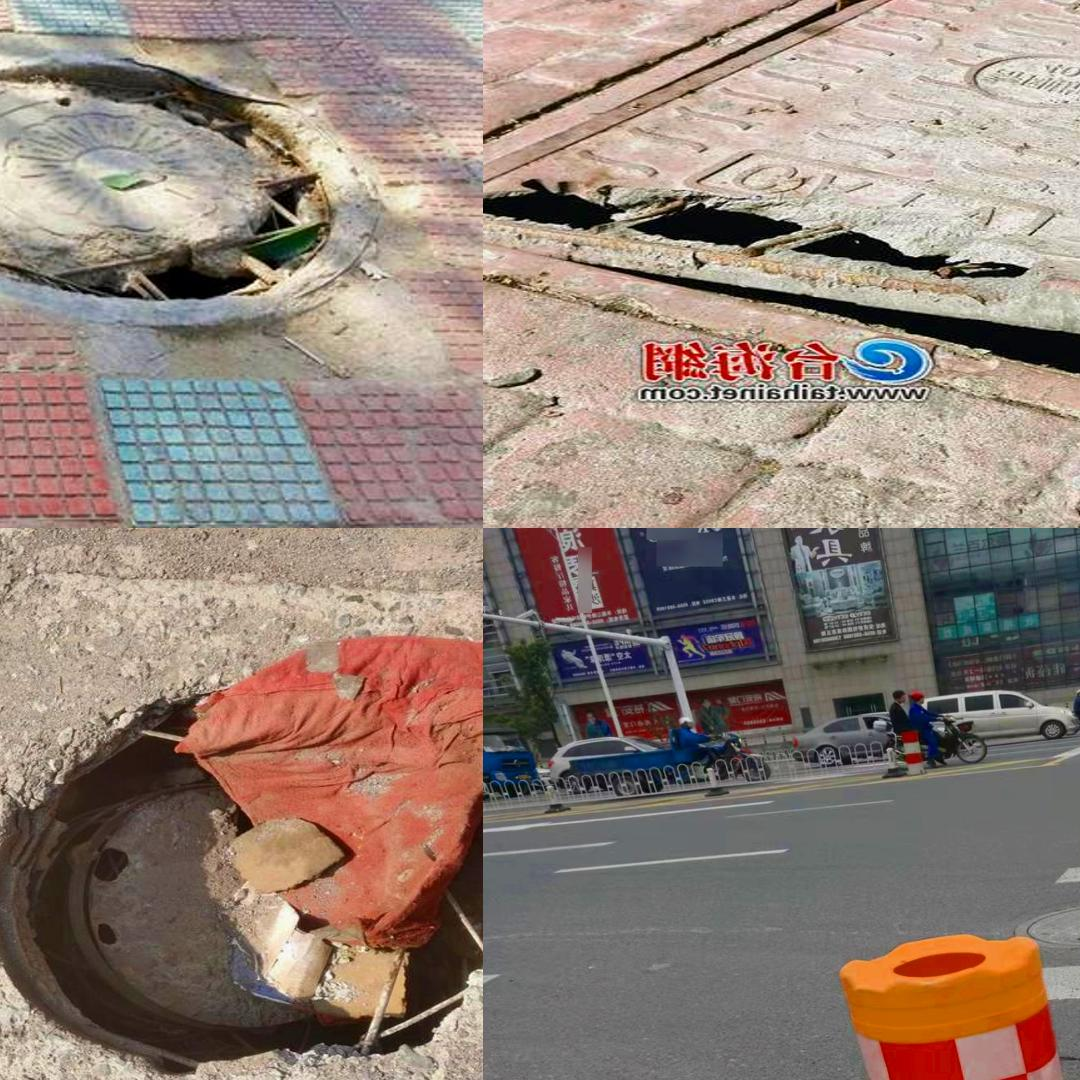broke: (483, 0, 1080, 414), (0, 651, 467, 1080), (0, 42, 375, 325)
